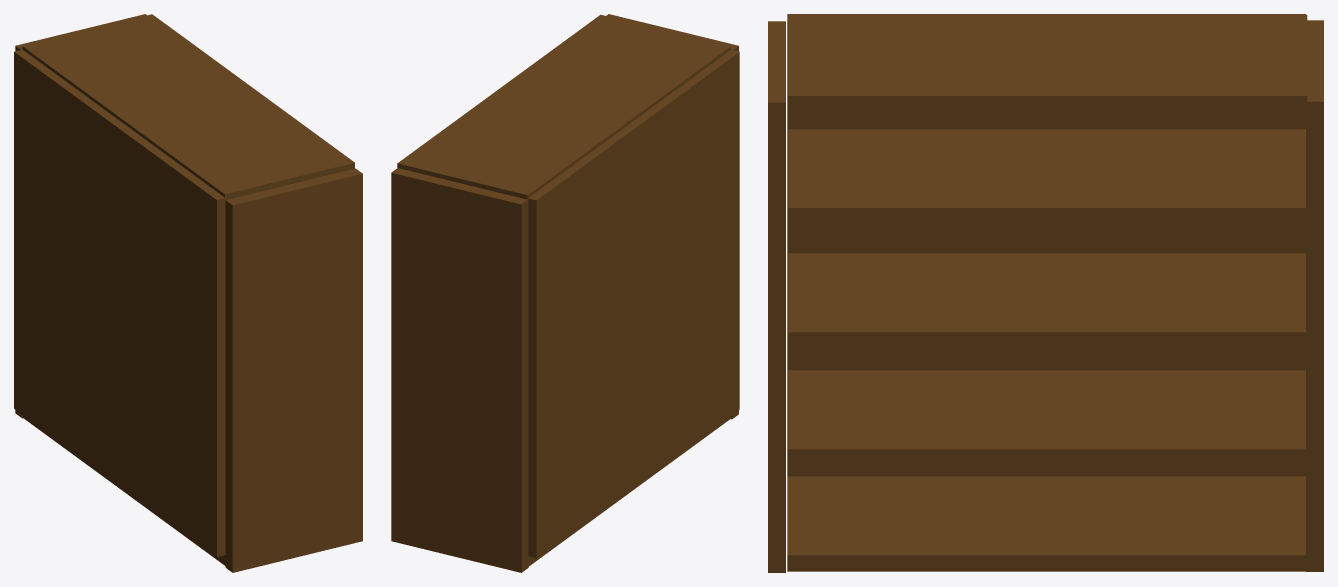
File: shelf.fbx
3 renders of one model, left to right at view 1: azimuth 30°, elevation 25°; view 2: azimuth 150°, elevation 25°; view 3: azimuth 270°, elevation 25°, orthographic. The views are drawn at different scales.
Visible parts, largest first — view 1: Cube.003; view 2: Cube.003; view 3: Cube.003.
Boxes of the visible parts, box(x1,y1,x2,y2) form: Cube.003: box(14, 14, 362, 572); Cube.003: box(391, 14, 739, 572); Cube.003: box(768, 14, 1323, 572).
Size of the model in its own units: 78.99 by 203 by 214.
